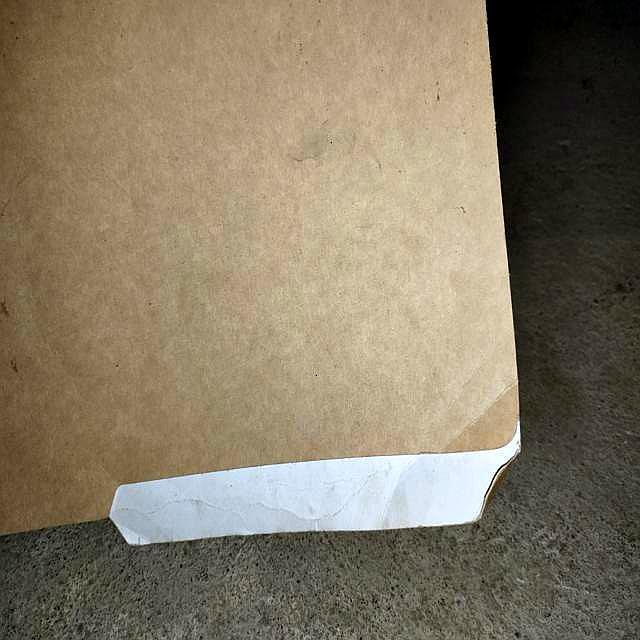Biodegradable: (1, 1, 523, 547)
